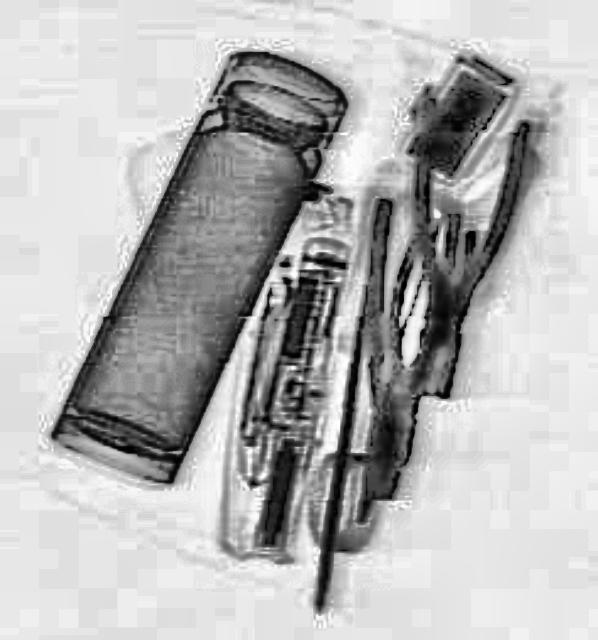Pliers: (376, 102, 528, 400), (336, 194, 462, 502)
